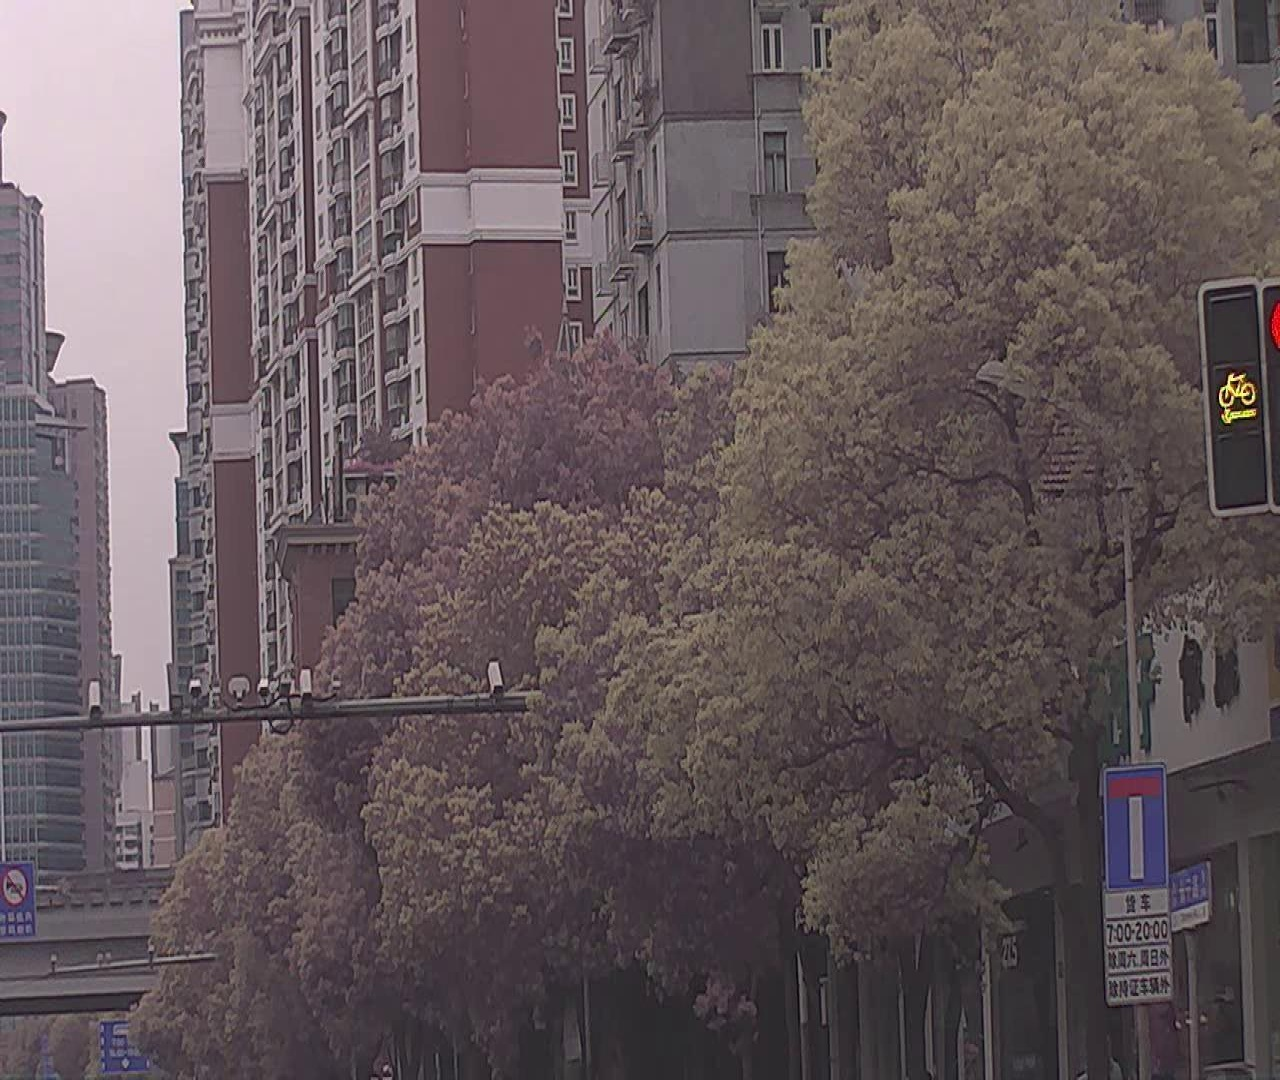yellow: (1200, 282, 1274, 513)
